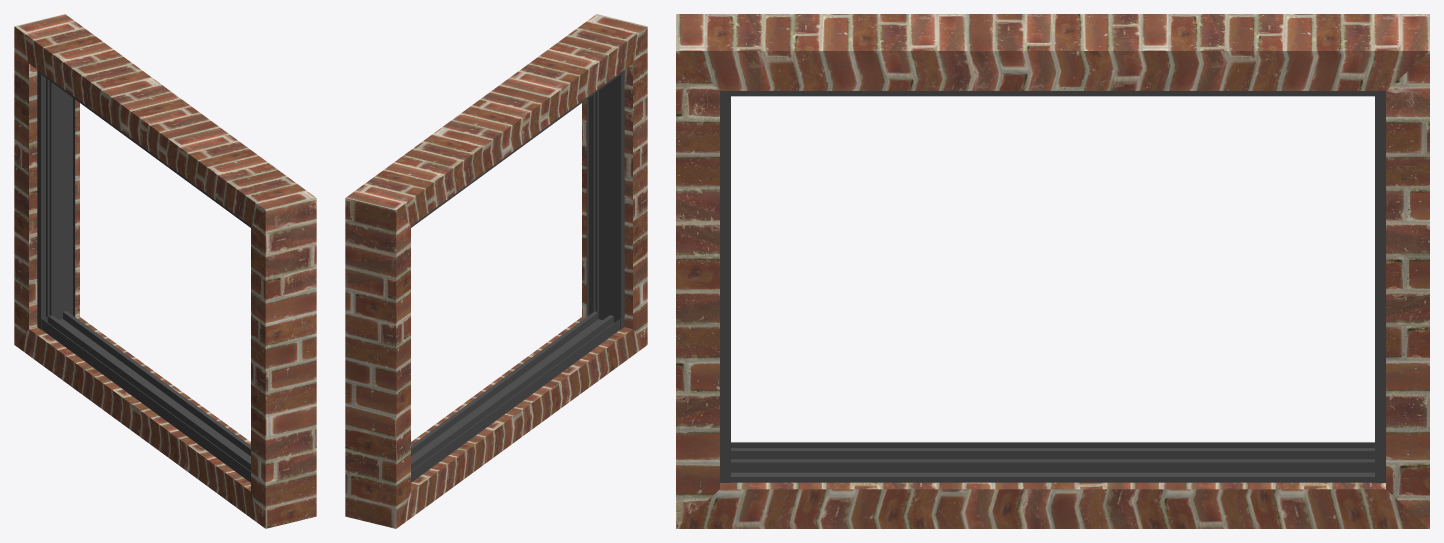
File: Triple-sliding-frames.gltf
3 renders of one model, left to right at view 1: azimuth 30°, elevation 25°; view 2: azimuth 150°, elevation 25°; view 3: azimuth 270°, elevation 25°, orthographic. The views are drawn at different scales.
Parts seen in each view (by area): view 1: Window_frame.002, Window_rail.002; view 2: Window_frame.002, Window_rail.002; view 3: Window_frame.002, Window_rail.002.
Boxes of the visible parts, box(x1,y1,x2,y2) form: Window_frame.002: box(14, 14, 316, 528); Window_rail.002: box(37, 70, 250, 482); Window_frame.002: box(345, 14, 647, 528); Window_rail.002: box(411, 70, 624, 482); Window_frame.002: box(676, 14, 1429, 528); Window_rail.002: box(720, 91, 1385, 482).
Size of the model in its own units: 0.4325 by 2.59 by 3.71.
2 materials, 1 textured.
